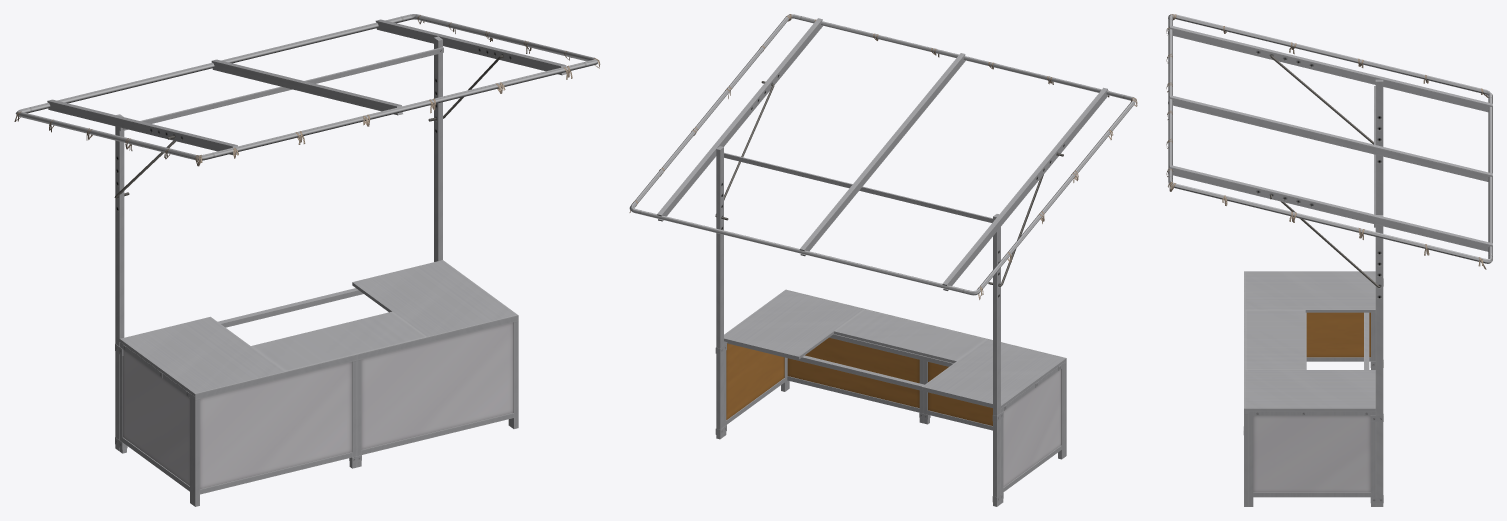
The model's file is jsf_2P_s02_c04_t04.fbx.
3 views of the same model, side by side, from view 1: azimuth 30°, elevation 25°; view 2: azimuth 150°, elevation 25°; view 3: azimuth 270°, elevation 25° (orthographic). The views are drawn at different scales.
Visible parts, largest first — view 1: Base_s02_c04, Table_2P_s02_t04, Pillar2_s02, Rope_2P_s02; view 2: Pillar2_s02, Base_s02_c04, Table_2P_s02_t04; view 3: Pillar2_s02, Base_s02_c04, Table_2P_s02_t04, Rope_2P_s02.
Part boxes in pixels (<box>): Base_s02_c04: <box>115,315,518,506</box>; Table_2P_s02_t04: <box>119,260,517,397</box>; Pillar2_s02: <box>15,14,597,451</box>; Rope_2P_s02: <box>14,15,600,166</box>; Pillar2_s02: <box>629,14,1135,506</box>; Base_s02_c04: <box>715,289,1066,503</box>; Table_2P_s02_t04: <box>724,290,1065,410</box>; Pillar2_s02: <box>1168,14,1492,506</box>; Base_s02_c04: <box>1243,271,1383,506</box>; Table_2P_s02_t04: <box>1245,271,1375,415</box>; Rope_2P_s02: <box>1166,14,1488,269</box>.
Size of the model in its own units: 264 by 244 by 211.
